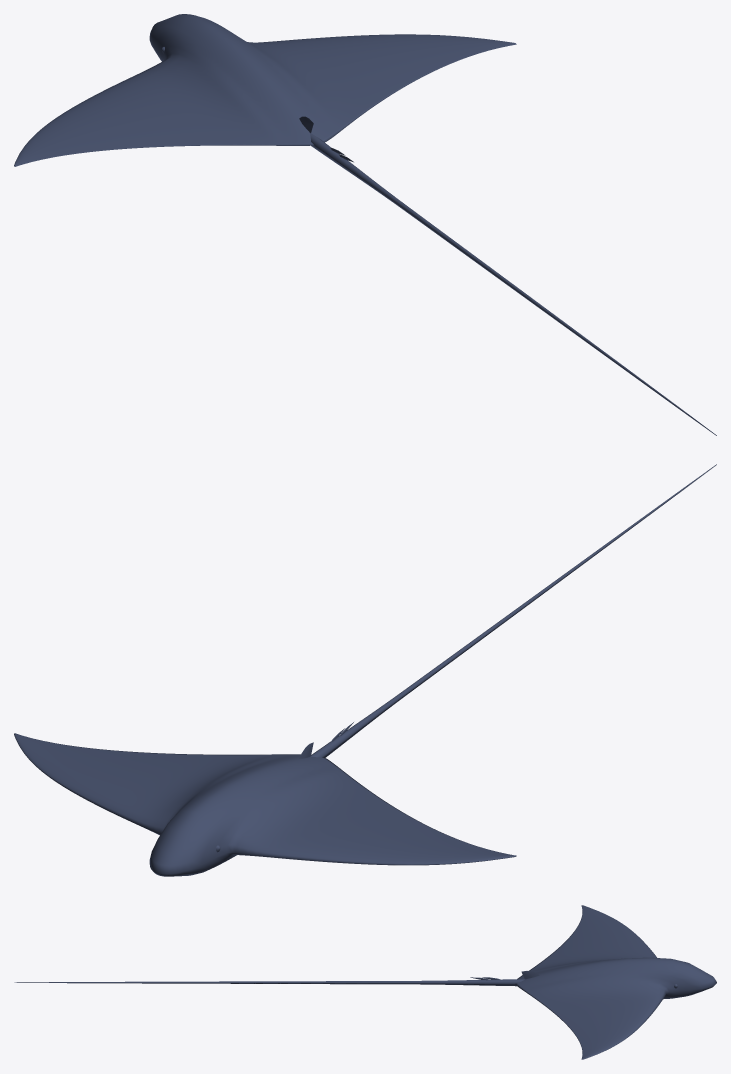
File: spotted_eagle_ray_lo.glb
3 renders of one model, top to bottom at view 1: azimuth 30°, elevation 25°; view 2: azimuth 150°, elevation 25°; view 3: azimuth 270°, elevation 25°, orthographic. The views are drawn at different scales.
Parts seen in each view (by area): view 1: spotted_eagle_ray_lo; view 2: spotted_eagle_ray_lo; view 3: spotted_eagle_ray_lo.
Part boxes in pixels (x1,y1,x2,y2): spotted_eagle_ray_lo: (14, 14, 716, 435); spotted_eagle_ray_lo: (14, 464, 716, 876); spotted_eagle_ray_lo: (14, 905, 716, 1059).
Size of the model in its own units: 2 by 0.2301 by 3.85.
